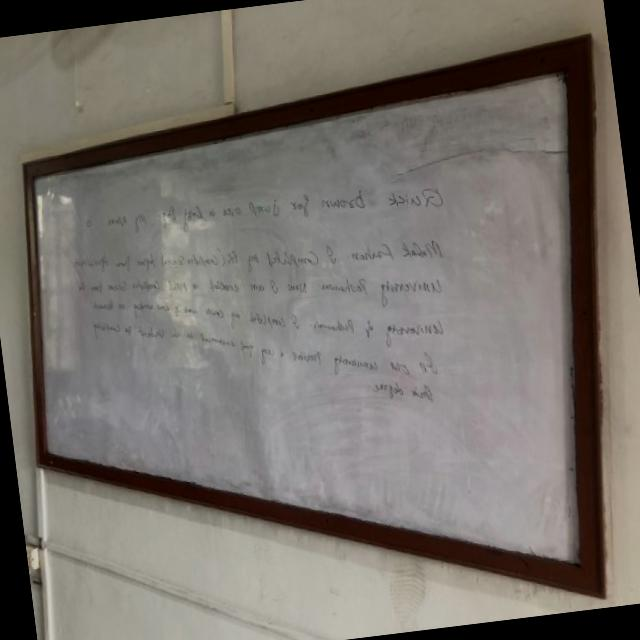White-board: (28, 48, 588, 577)
